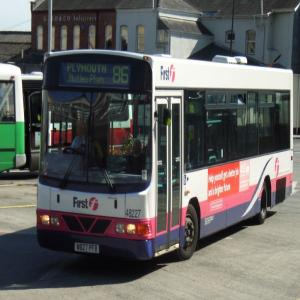Vehicle-registration-plate: (77, 243, 100, 255)
